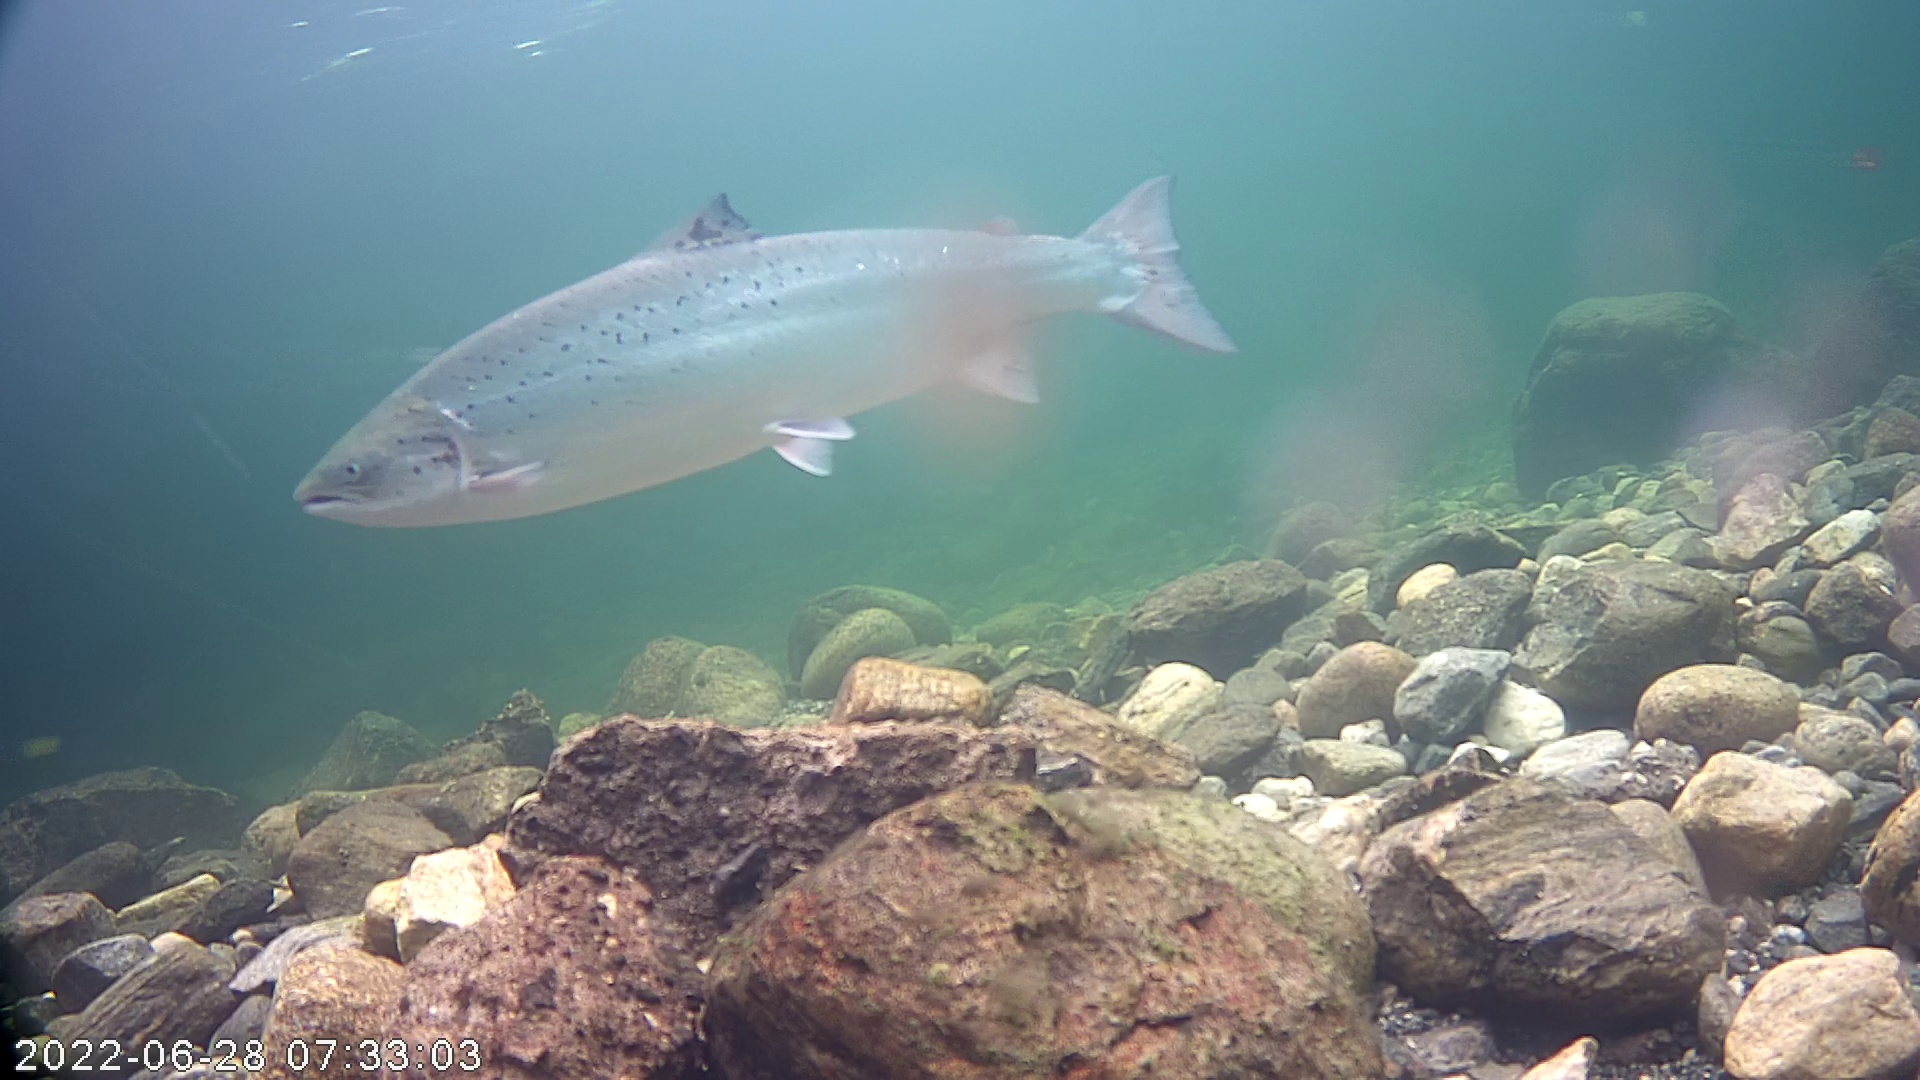salmon: (295, 107, 1259, 556)
